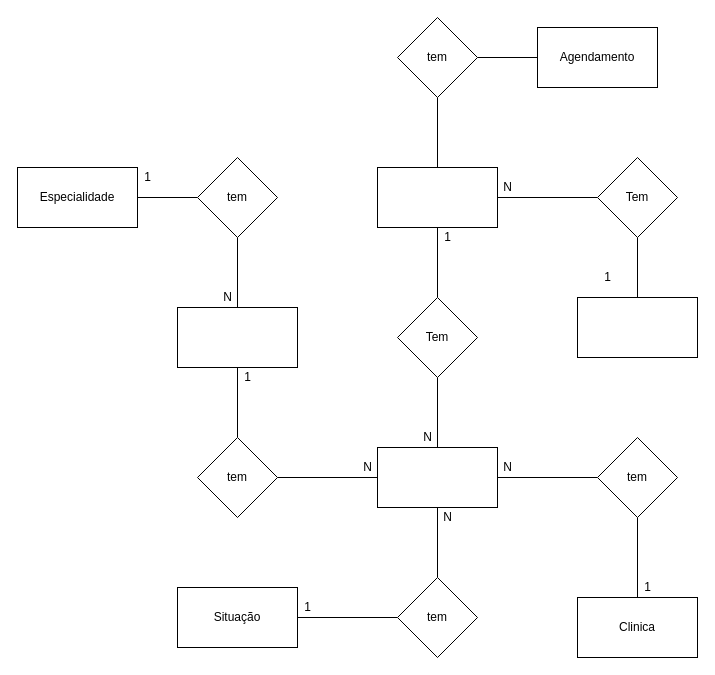
Some shapes in this 715 by 675 pixel diagram are drawn without their labels. The centre of each missing label's shape, as x and y in pixels:
Consulta: (x=437, y=477)
Médico: (x=237, y=337)
TipoUsuario: (x=637, y=327)
Usuário: (x=437, y=197)
